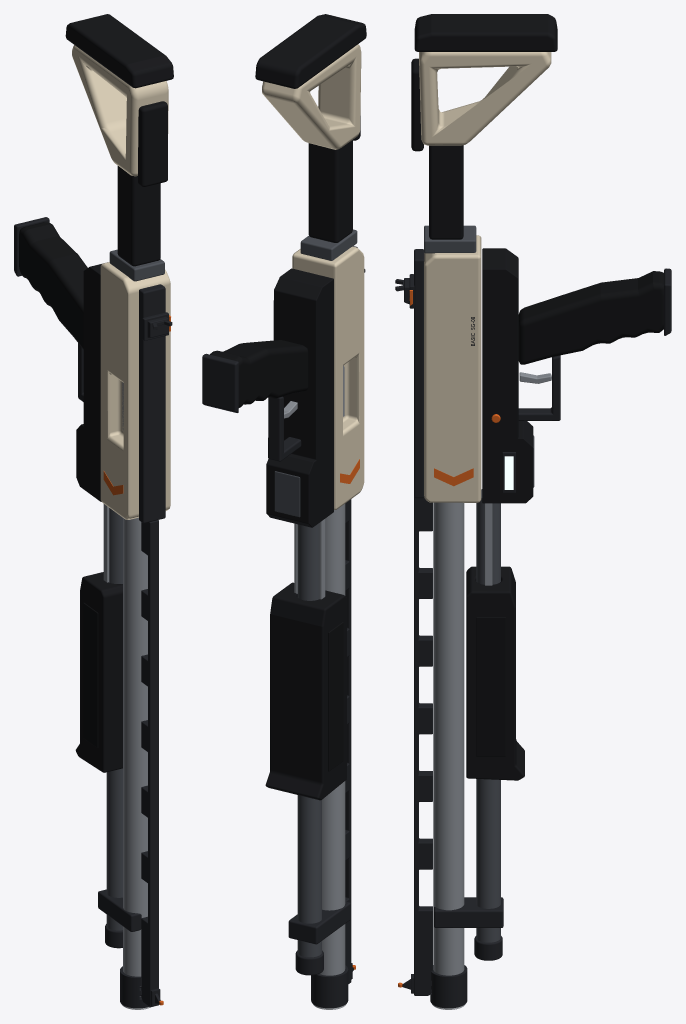
File: BASIC-08-v2.1.fbx
The picture shows the model from 3 angles, left to right: view 1: azimuth 30°, elevation 25°; view 2: azimuth 150°, elevation 25°; view 3: azimuth 270°, elevation 25°; orthographic projection. The views are drawn at different scales.
Visible parts, largest first — view 1: upper, barrel, vent_rib, pump, rail, stock, grip, lower, butt_pad, stock_spine, tube_mag, cheek_rest (+7 smaller); view 2: pump, lower, upper, stock, barrel, tube_mag, butt_pad, grip, stock_spine, vent_rib, pump_pad, grip_cap (+7 smaller); view 3: barrel, upper, lower, grip, stock, pump, vent_rib, butt_pad, tube_mag, pump_pad, stock_spine, rail (+6 smaller).
Part boxes in pixels (<box>): upper: <box>100,262,170,519</box>; barrel: <box>123,517,147,986</box>; vent_rib: <box>141,520,158,1007</box>; pump: <box>75,572,122,772</box>; rail: <box>139,284,165,523</box>; stock: <box>72,45,168,176</box>; grip: <box>19,222,87,349</box>; lower: <box>76,262,107,501</box>; butt_pad: <box>65,14,173,88</box>; stock_spine: <box>117,166,160,266</box>; tube_mag: <box>106,508,122,930</box>; cheek_rest: <box>138,101,167,186</box>; pump: <box>265,582,346,800</box>; lower: <box>266,268,333,527</box>; upper: <box>292,246,364,509</box>; stock: <box>262,44,361,149</box>; barrel: <box>319,504,345,975</box>; tube_mag: <box>297,523,321,957</box>; butt_pad: <box>255,14,366,88</box>; grip: <box>210,340,308,407</box>; stock_spine: <box>308,140,352,242</box>; vent_rib: <box>345,499,351,983</box>; pump_pad: <box>328,622,343,771</box>; grip_cap: <box>202,353,238,412</box>; barrel: <box>433,502,464,975</box>; upper: <box>424,235,481,502</box>; lower: <box>482,248,533,503</box>; grip: <box>518,271,663,364</box>; stock: <box>419,52,551,145</box>; pump: <box>466,566,524,780</box>; vent_rib: <box>414,497,432,995</box>; butt_pad: <box>414,14,557,51</box>; tube_mag: <box>476,489,500,942</box>; pump_pad: <box>476,617,505,756</box>; stock_spine: <box>429,145,463,239</box>; rail: <box>414,249,424,498</box>.
Size of the model in its own units: 0.052 by 0.8689 by 0.2219.
